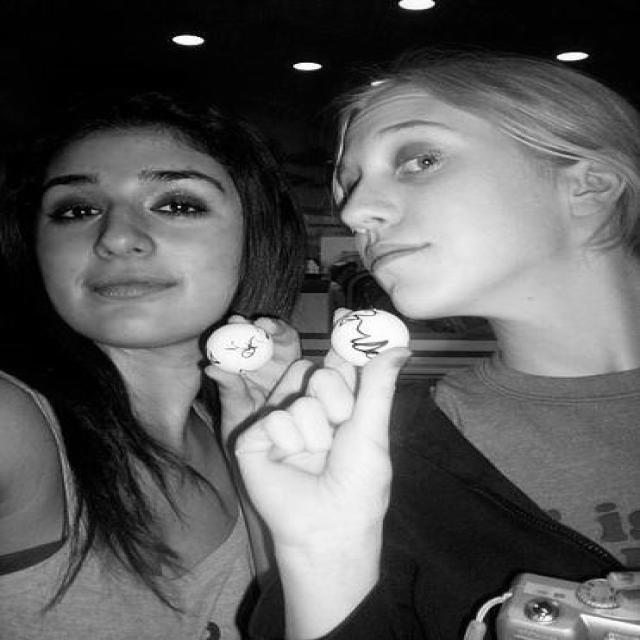ping-pong-ball: (330, 308, 410, 368), (205, 321, 276, 374)
